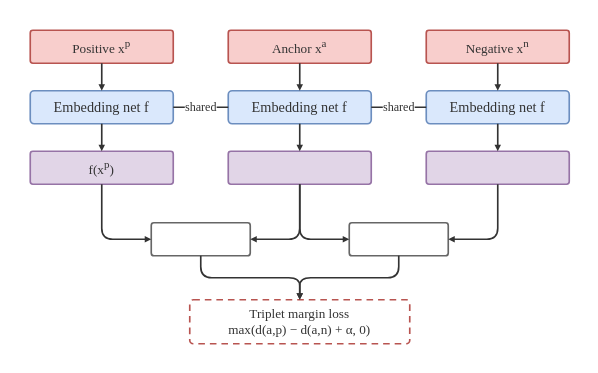
The diagram is 598 pixels wide and 373 high, and some of its shapes have lost their labels. Here are the shapes that lost their labels. From the top down, the centre of each, then its label:
At point 299,167: "f(x a )".
At point 497,167: "f(x n )".
At point 200,238: "d(a, p)".
At point 398,238: "d(a, n)".
